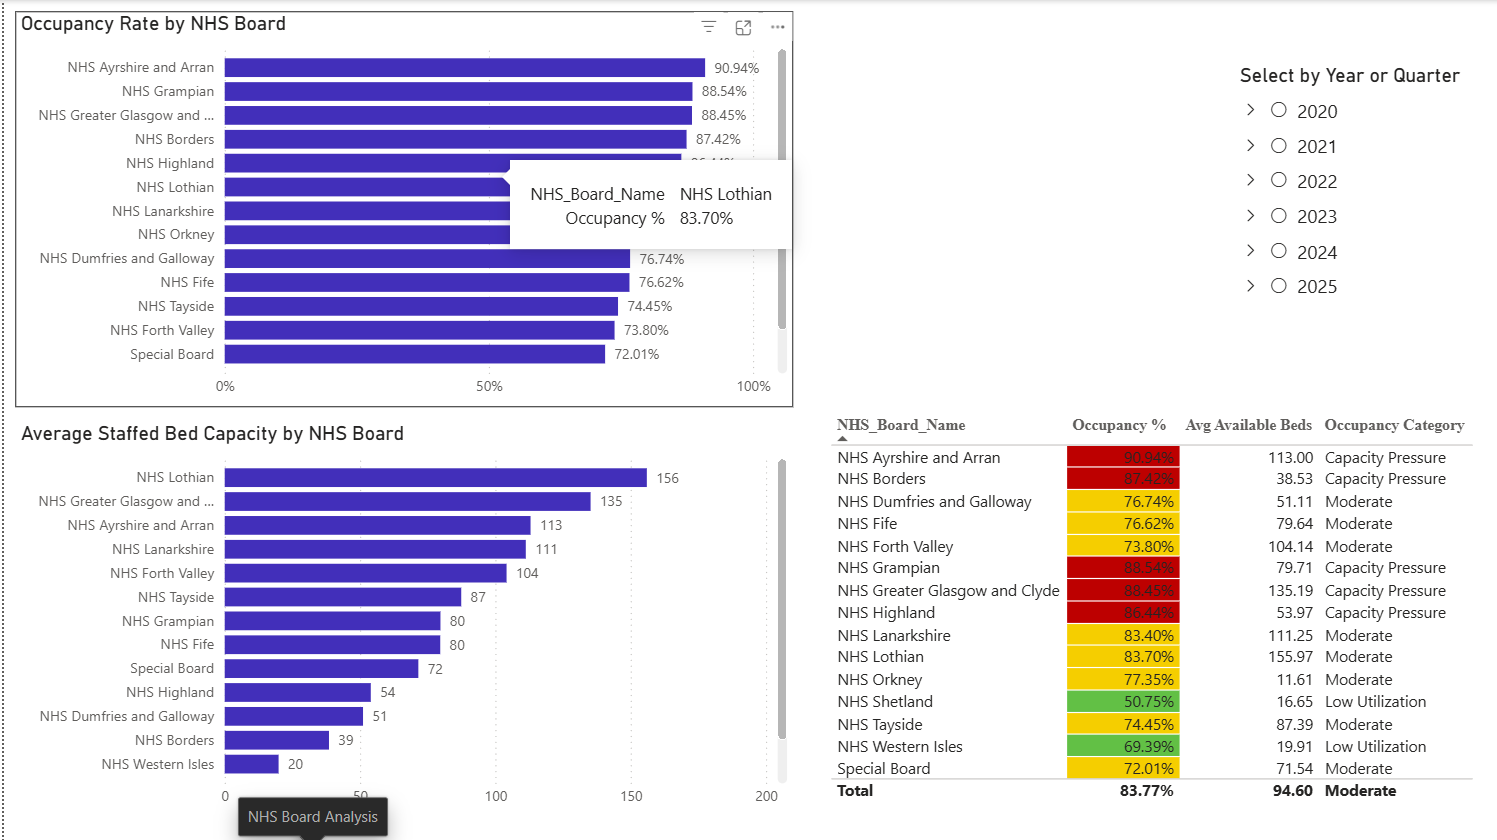

This screenshot's page, from the dashboard's own definition file:
{"tool":"powerbi","page":{"name":"NHS Board Analysis","canvas":[1280,720],"ordinal":1},"visuals":[{"type":"clusteredBarChart","title":"Occupancy Rate by NHS Board","fields":{"Category":["analytics dim_nhs_board.NHS_Board_Name"],"Y":["analytics beds_clean.Occupancy %"]},"box":[10.1,10.1,664,338.3],"z":0},{"type":"clusteredBarChart","title":"Average Staffed Bed Capacity by NHS Board","fields":{"Category":["analytics dim_nhs_board.NHS_Board_Name"],"Y":["analytics beds_clean.Avg Available Beds"]},"box":[10.1,359.7,664,338.3],"z":1000},{"type":"tableEx","fields":{"Values":["analytics dim_nhs_board.NHS_Board_Name","analytics beds_clean.Occupancy %","analytics beds_clean.Avg Available Beds","analytics beds_clean.Occupancy Category"]},"box":[700.4,349.4,558.8,349.4],"z":2000},{"type":"listSlicer","title":"Select by Year or Quarter","fields":{"Values":["analytics beds_clean.Quarter_Start_Date.Variation.Date Hierarchy.Year","analytics beds_clean.Quarter_Start_Date.Variation.Date Hierarchy.Quarter"]},"box":[1049.9,54.2,209.4,251.5],"z":3000}]}

Visuals, with their boxes on the page's 1280x720 design canvas (x1, y1, x2, y2). These are canvas units, not pixel positions in the 1497x840 screenshot, which may show the page scaled, cropped or inside an application window:
"Occupancy Rate by NHS Board" clusteredBarChart: [10, 10, 674, 348]
"Average Staffed Bed Capacity by NHS Board" clusteredBarChart: [10, 360, 674, 698]
tableEx - analytics dim_nhs_board.NHS_Board_Name x analytics beds_clean.Occupancy %: [700, 349, 1259, 699]
"Select by Year or Quarter" listSlicer: [1050, 54, 1259, 306]
